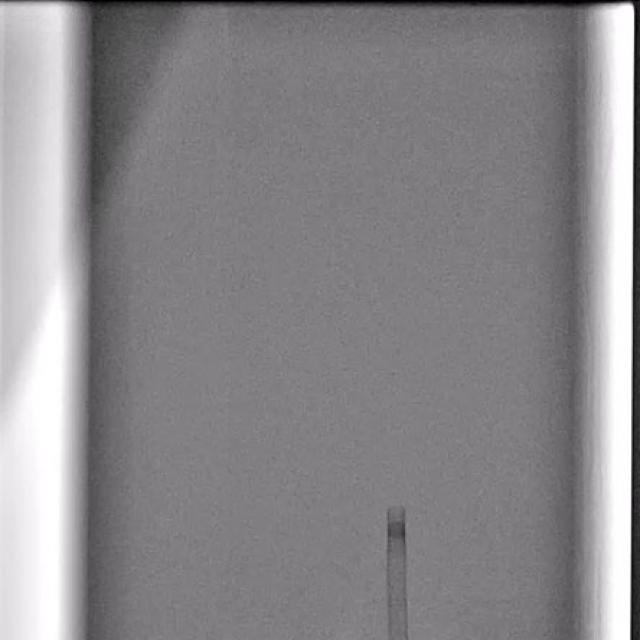entry: (389, 635, 408, 640)
marker: (387, 522, 406, 539)
tip: (388, 506, 405, 513)
